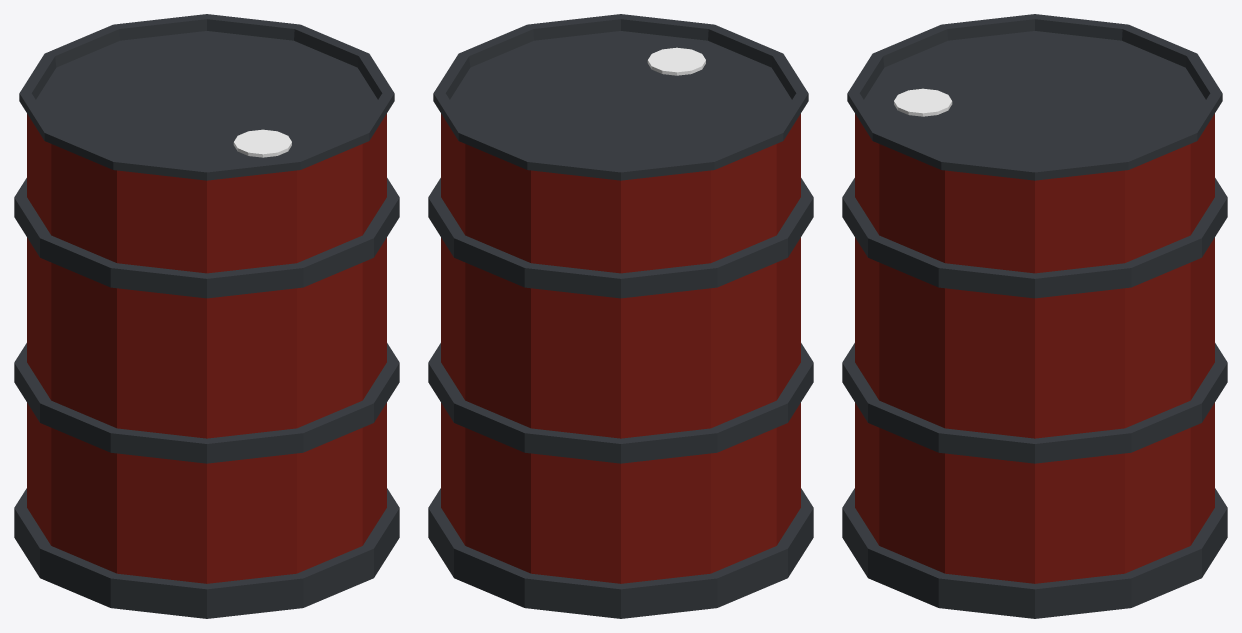
Rendered from Barrel_1.fbx.
3 views of the same model, side by side, from view 1: azimuth 30°, elevation 25°; view 2: azimuth 150°, elevation 25°; view 3: azimuth 270°, elevation 25° (orthographic).
Parts seen in each view (by area): view 1: Barrel_1; view 2: Barrel_1; view 3: Barrel_1.
Part boxes in pixels (x1,y1,x2,y2): Barrel_1: (14, 14, 399, 618); Barrel_1: (428, 14, 813, 618); Barrel_1: (842, 14, 1227, 618).
Size of the model in its own units: 78.49 by 99.8 by 78.49.
